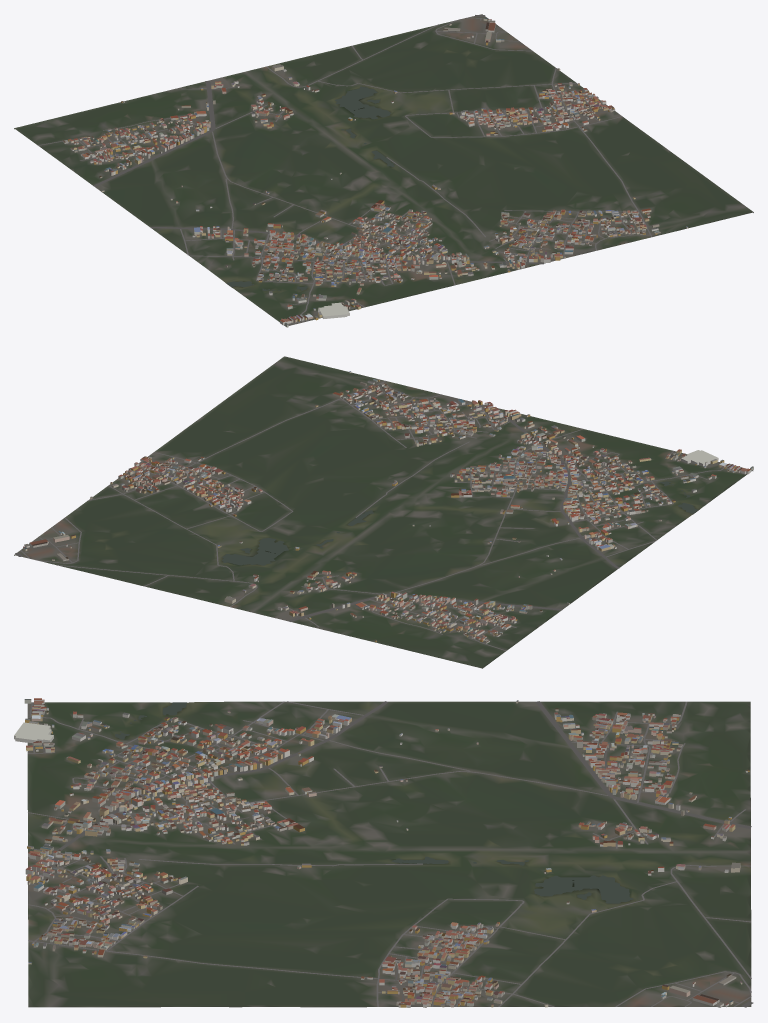
3 views of the same model, one above another, from view 1: azimuth 30°, elevation 25°; view 2: azimuth 150°, elevation 25°; view 3: azimuth 270°, elevation 25° (orthographic). The views are drawn at different scales.
Parts seen in each view (by area): view 1: ground, buildings, roads, water; view 2: ground, buildings, roads, water; view 3: ground, buildings, roads, water.
Boxes of the visible parts, x1,y1,x2,y2 form: ground: [14, 14, 753, 326]; buildings: [62, 18, 688, 327]; roads: [38, 15, 652, 325]; water: [226, 86, 394, 290]; ground: [14, 356, 753, 668]; buildings: [23, 371, 753, 643]; roads: [15, 381, 751, 650]; water: [222, 481, 697, 565]; ground: [27, 701, 751, 1007]; buildings: [14, 698, 749, 1007]; roads: [27, 701, 753, 1007]; water: [115, 702, 633, 903].
Size of the model in its own units: 1403 by 18.52 by 1435.
